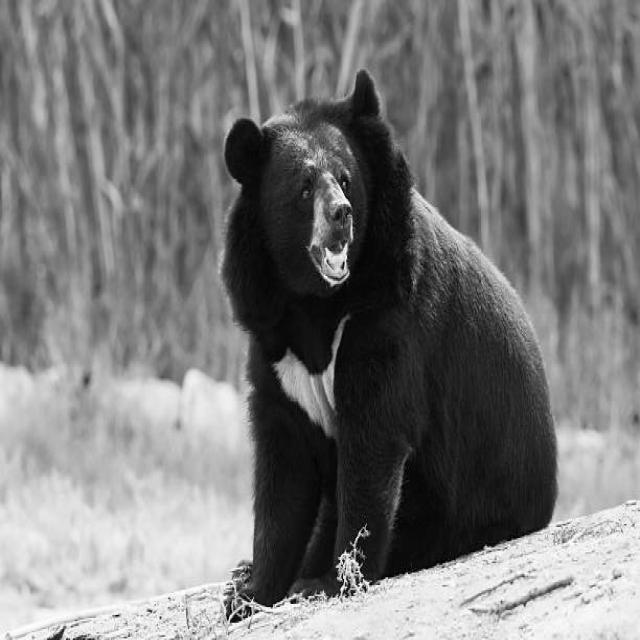Bear: (216, 69, 559, 610)
